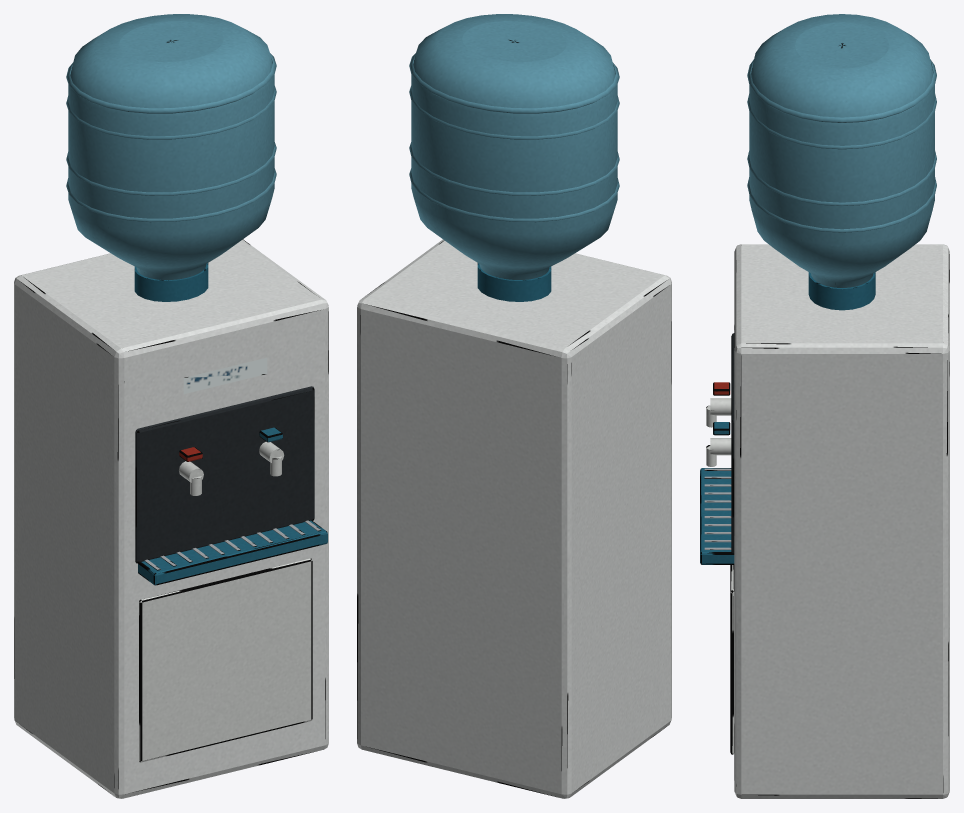
The model's file is SM_WaterDispenser_01.fbx.
The picture shows the model from 3 angles, left to right: view 1: azimuth 30°, elevation 25°; view 2: azimuth 150°, elevation 25°; view 3: azimuth 270°, elevation 25°; orthographic projection.
Parts seen in each view (by area): view 1: SM_WaterDispenser_01_Housing, SM_WaterDispenser_01_WaterBottle, SM_WaterDispenser_01_Tap_blue, SM_WaterDispenser_01_Tap_red; view 2: SM_WaterDispenser_01_Housing, SM_WaterDispenser_01_WaterBottle; view 3: SM_WaterDispenser_01_Housing, SM_WaterDispenser_01_WaterBottle, SM_WaterDispenser_01_Tap_blue, SM_WaterDispenser_01_Tap_red.
Boxes of the visible parts, box(x1,y1,x2,y2) form: SM_WaterDispenser_01_Housing: box(14, 239, 328, 798); SM_WaterDispenser_01_WaterBottle: box(66, 14, 276, 301); SM_WaterDispenser_01_Tap_blue: box(259, 427, 284, 476); SM_WaterDispenser_01_Tap_red: box(179, 447, 203, 495); SM_WaterDispenser_01_Housing: box(357, 239, 671, 798); SM_WaterDispenser_01_WaterBottle: box(409, 14, 619, 301); SM_WaterDispenser_01_Housing: box(700, 244, 949, 798); SM_WaterDispenser_01_WaterBottle: box(747, 14, 936, 310); SM_WaterDispenser_01_Tap_blue: box(706, 422, 731, 466); SM_WaterDispenser_01_Tap_red: box(706, 382, 731, 427).
Size of the model in its own units: 0.32 by 1 by 0.32.
